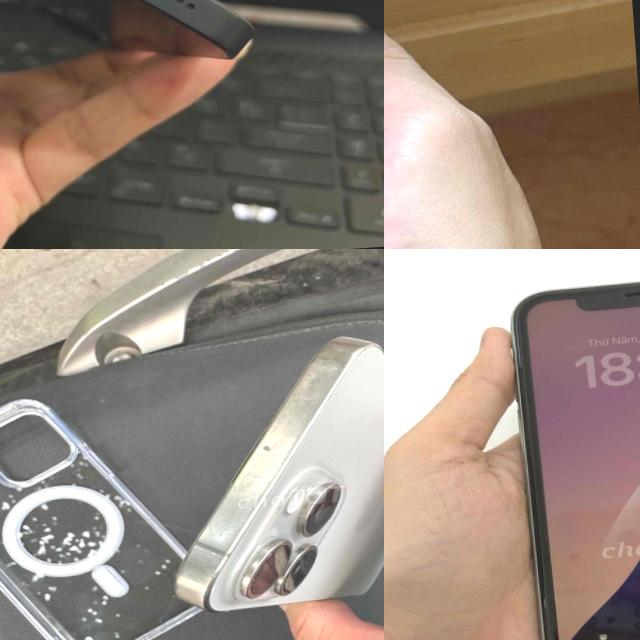scratch: (180, 356, 384, 562)
